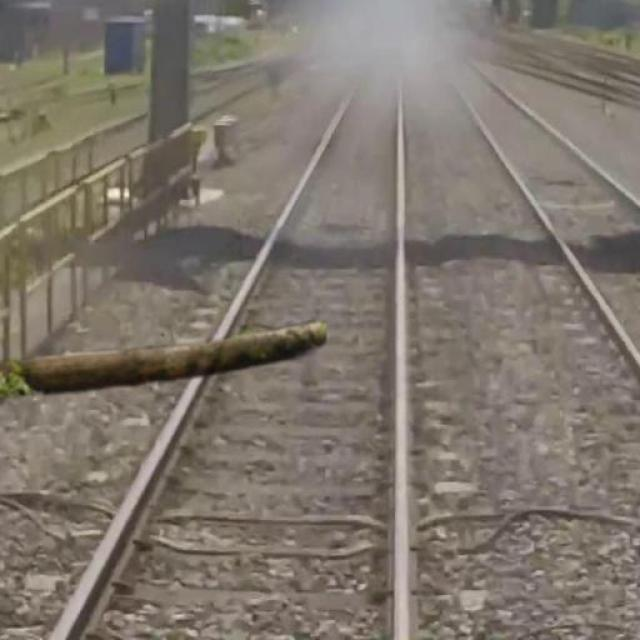Branches: (12, 316, 343, 399)
